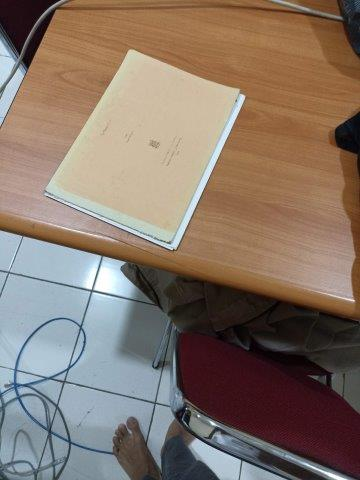kertas: (44, 50, 246, 249)
